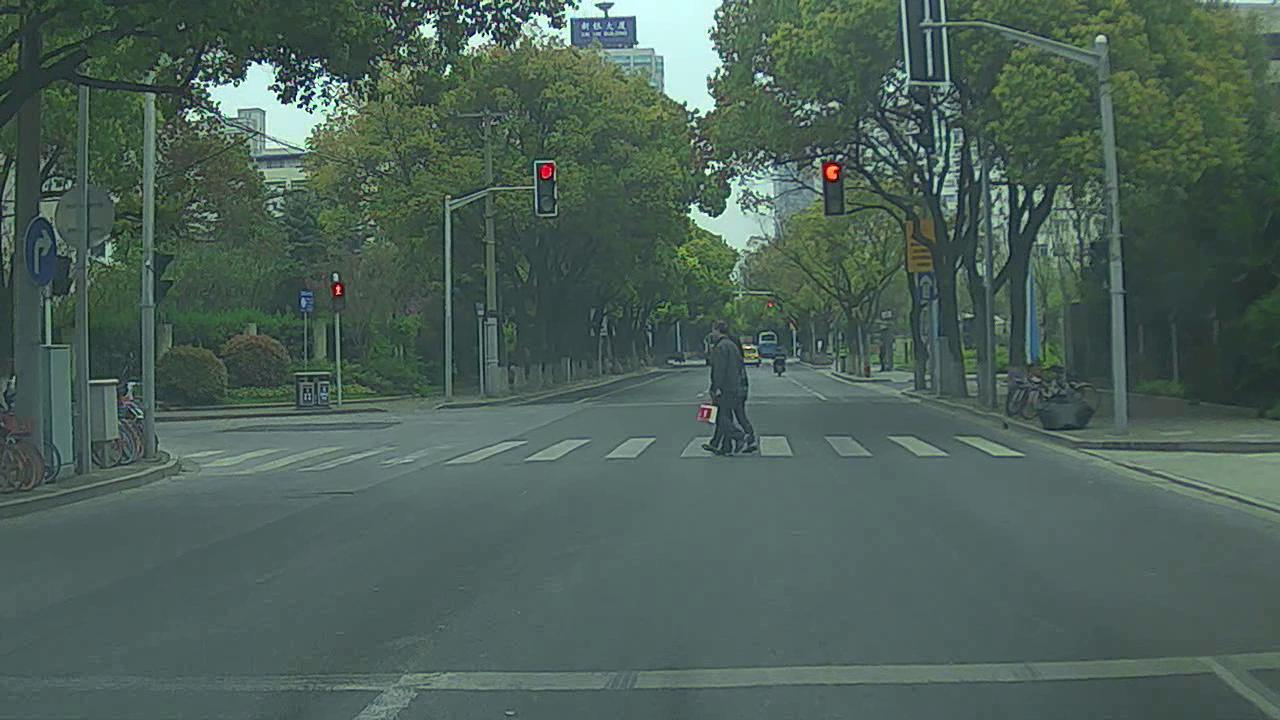traffic_light: (537, 161, 558, 215), (826, 161, 845, 214)
